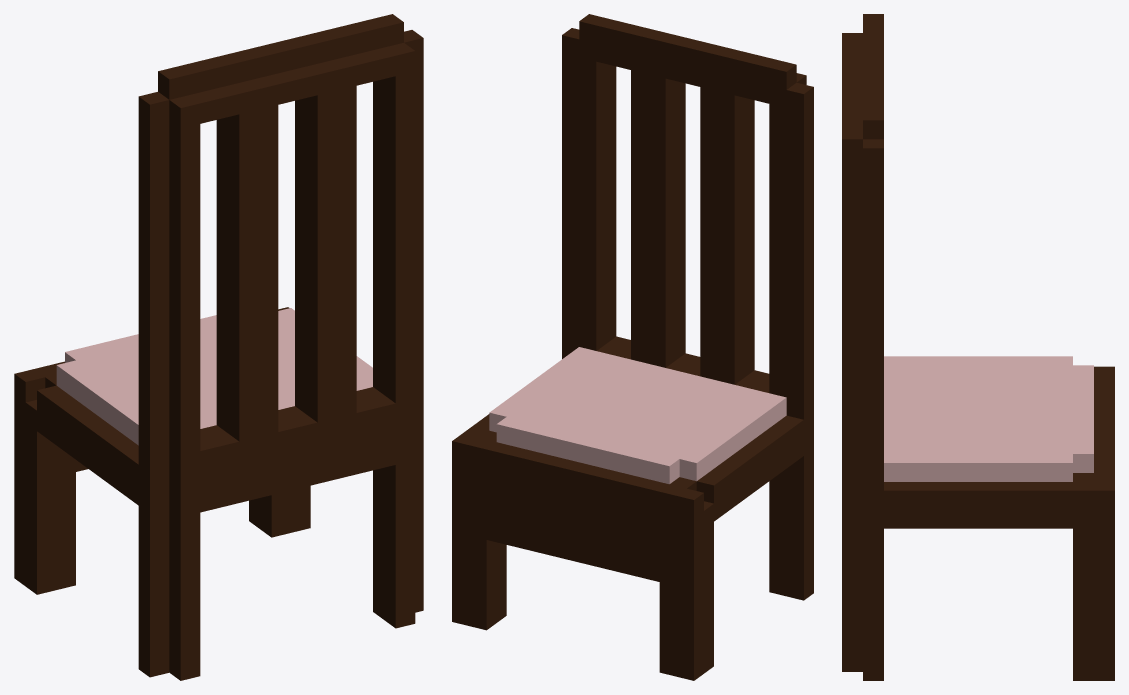
Rendered from Chair.obj.
3 views of the same model, side by side, from view 1: azimuth 30°, elevation 25°; view 2: azimuth 150°, elevation 25°; view 3: azimuth 270°, elevation 25° (orthographic). The views are drawn at different scales.
Size of the model in its own units: 1.4 by 2.9 by 1.3.
Materials: 1 (1 with a texture image).
